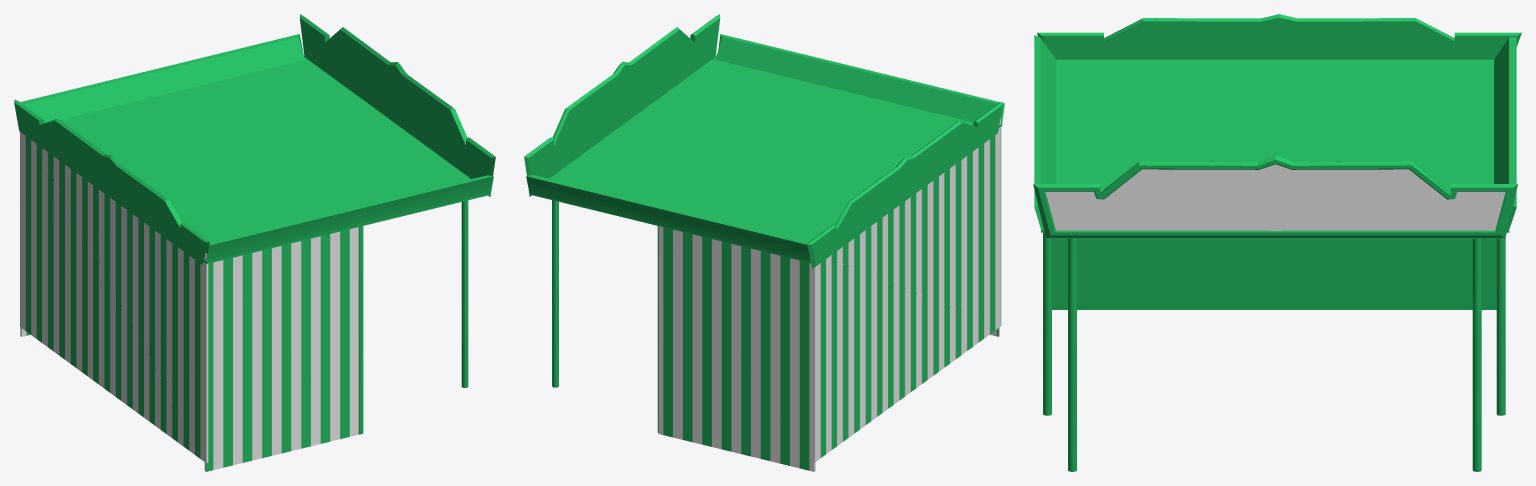
Rendered from Big_textured_booth.fbx.
The picture shows the model from 3 angles, left to right: view 1: azimuth 30°, elevation 25°; view 2: azimuth 150°, elevation 25°; view 3: azimuth 270°, elevation 25°; orthographic projection. The views are drawn at different scales.
Visible parts, largest first — view 1: Cube_031.001, Cube_030.001, Cube_002.001, Plane_010.001, Plane_011.001, Cylinder_004.001, Cylinder_002.001; view 2: Cube_031.001, Cube_030.001, Cube_003.001, Plane_010.001, Plane_011.001, Cylinder_005.001; view 3: Cube_031.001, Plane_010.001, Cube_030.001, Plane_011.001, Cylinder_005.001, Cylinder_004.001, Cylinder_012.001, Cylinder_002.001.
Boxes of the visible parts, x1=… form: Cube_031.001: x1=20, y1=34, x2=493, y2=263; Cube_030.001: x1=20, y1=132, x2=208, y2=463; Cube_002.001: x1=204, y1=227, x2=358, y2=471; Plane_010.001: x1=299, y1=14, x2=495, y2=196; Plane_011.001: x1=14, y1=99, x2=209, y2=264; Cylinder_004.001: x1=461, y1=200, x2=468, y2=387; Cylinder_002.001: x1=358, y1=226, x2=363, y2=434; Cube_031.001: x1=526, y1=34, x2=1004, y2=263; Cube_030.001: x1=814, y1=117, x2=1001, y2=462; Cube_003.001: x1=658, y1=226, x2=815, y2=471; Plane_010.001: x1=524, y1=14, x2=720, y2=196; Plane_011.001: x1=807, y1=101, x2=1002, y2=268; Cylinder_005.001: x1=552, y1=200, x2=558, y2=387; Cube_031.001: x1=1034, y1=35, x2=1516, y2=232; Plane_010.001: x1=1033, y1=155, x2=1517, y2=238; Cube_030.001: x1=1052, y1=238, x2=1496, y2=309; Plane_011.001: x1=1037, y1=14, x2=1521, y2=59; Cylinder_005.001: x1=1472, y1=238, x2=1481, y2=471; Cylinder_004.001: x1=1068, y1=238, x2=1076, y2=471; Cylinder_012.001: x1=1496, y1=238, x2=1505, y2=415; Cylinder_002.001: x1=1043, y1=232, x2=1051, y2=415.
Size of the model in its own units: 5.49 by 4.94 by 6.47.
